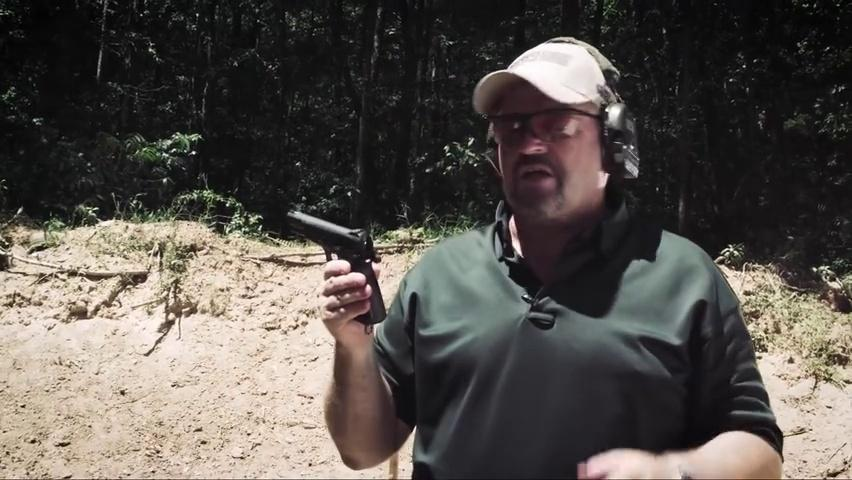gun: (282, 194, 397, 336)
